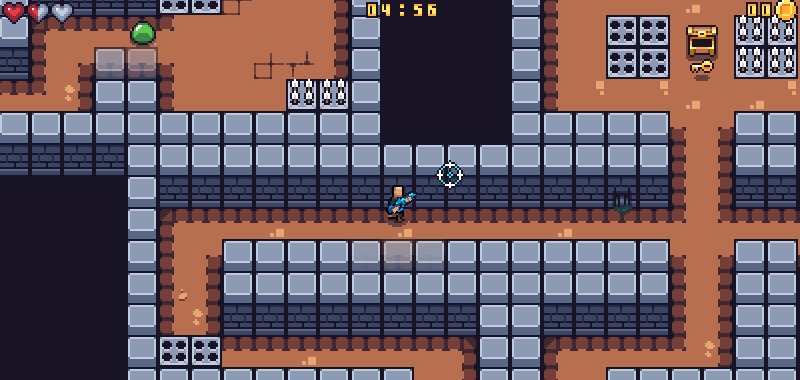enemy_slug: (128, 20, 156, 46)
key: (687, 57, 715, 76)
trap_off: (607, 16, 670, 77), (156, 336, 222, 365)
trap_on: (736, 16, 796, 79), (285, 80, 348, 111)
treasury_open: (685, 23, 718, 59)
